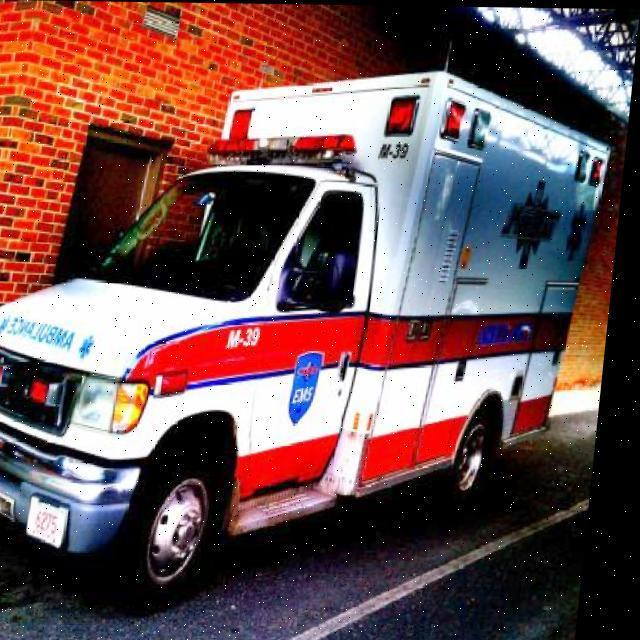Ambulance: (0, 58, 629, 604), (0, 376, 607, 640)
